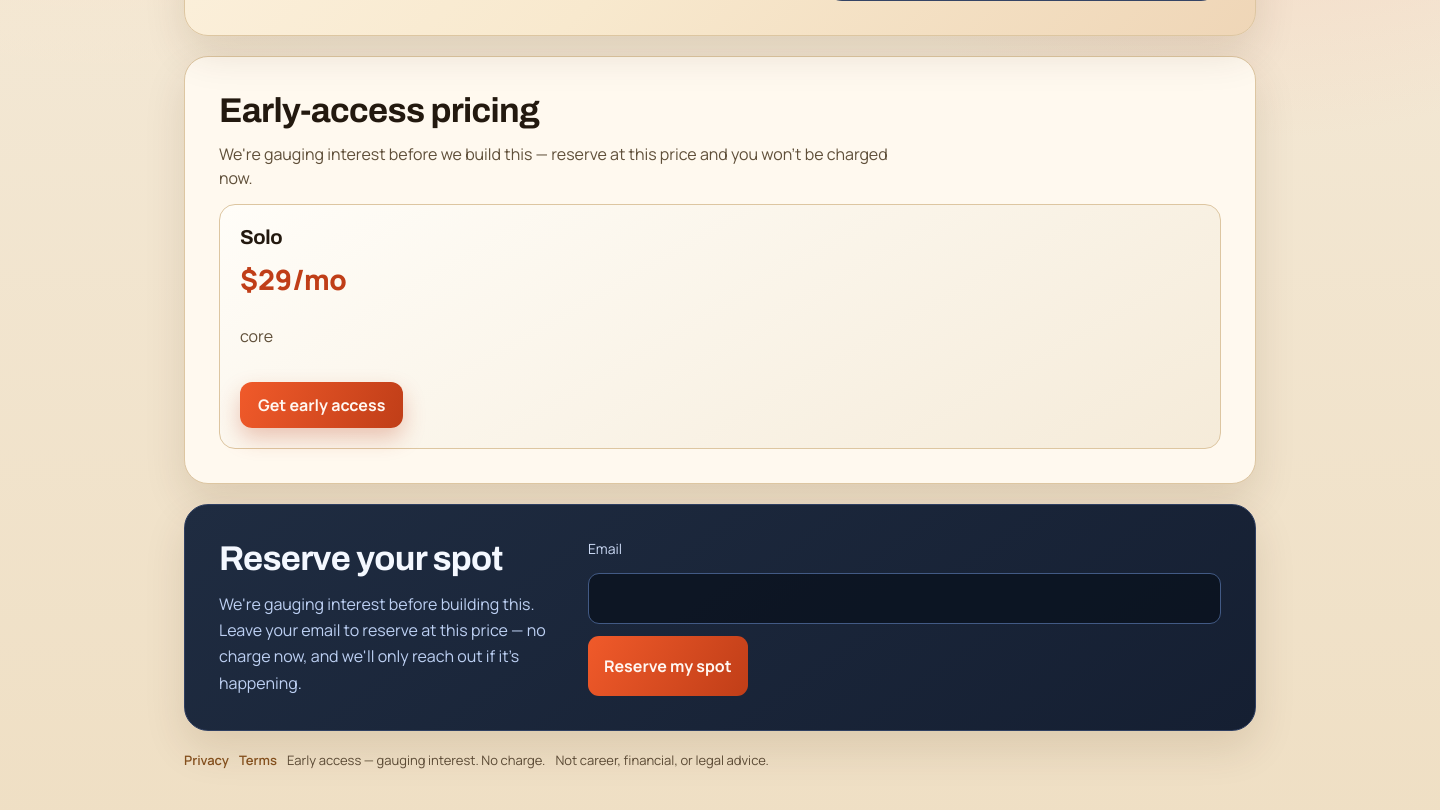
ConceptLanding › logs intent ONLY on the priced CTA click, then reveals the not-available note (clauses 2+5)
This screenshot has width=1440, height=810.
(page scrolled)
Expected: the text "$29/mo" is shown, [240,260,347,298]
Step 1. Click the button "Get early access" → [322, 405], box [240,382,403,428]
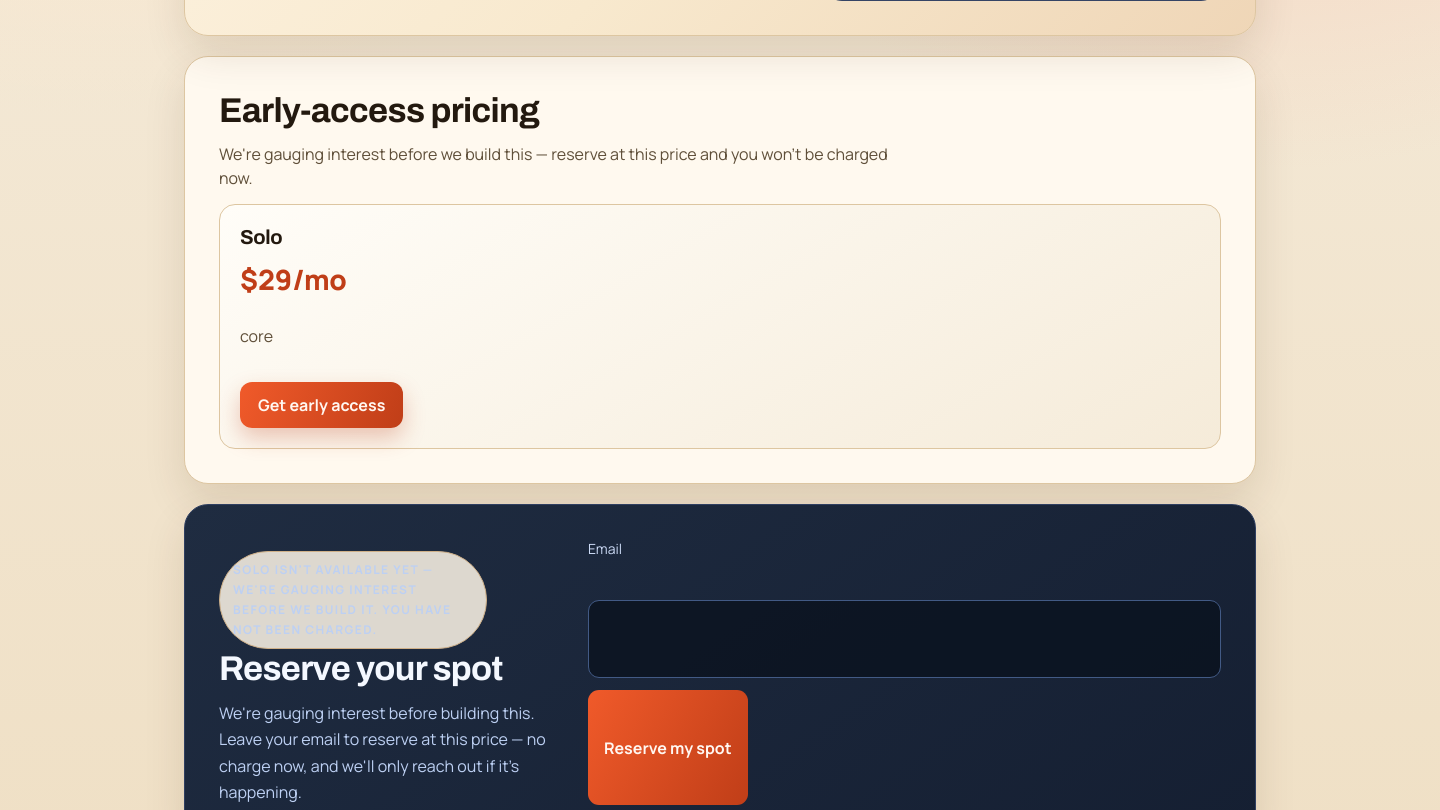
Expected: the heading "Solo" is shown, [240,226,282,248]
Expected: the message shows "isn't available yet", [233,561,451,638]
Expected: the message shows "not been charged", [233,561,451,638]
